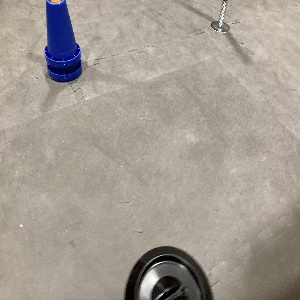Blue_2: (40, 0, 85, 84)
